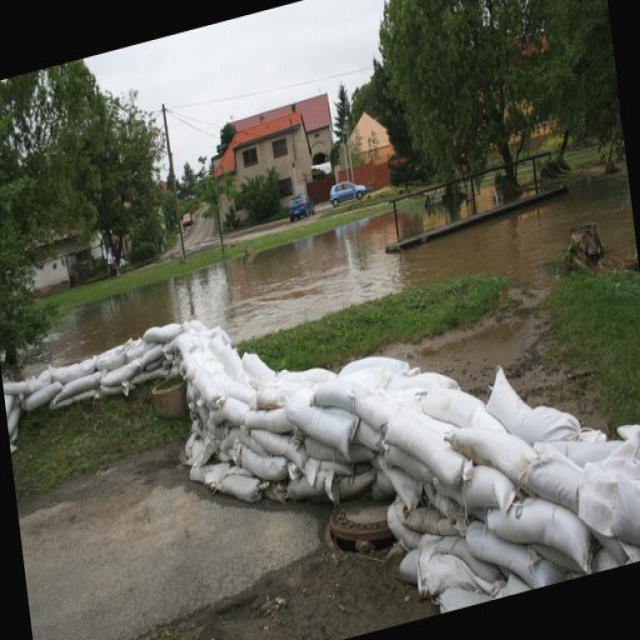flood: (4, 125, 637, 416)
